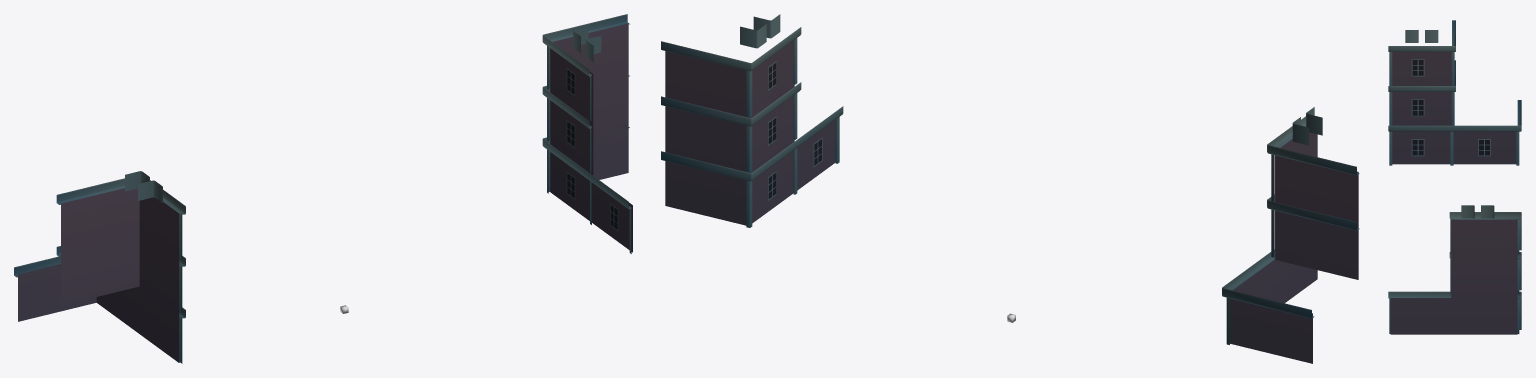
File: FarBackBuilding02.fbx
3 views of the same model, side by side, from view 1: azimuth 30°, elevation 25°; view 2: azimuth 150°, elevation 25°; view 3: azimuth 270°, elevation 25° (orthographic). The views are drawn at different scales.
Parts seen in each view (by area): view 1: FarBackBuilding02; view 2: FarBackBuilding02; view 3: FarBackBuilding02.
Boxes of the visible parts, x1=… form: FarBackBuilding02: x1=14, y1=14, x2=632, y2=363; FarBackBuilding02: x1=661, y1=14, x2=1359, y2=363; FarBackBuilding02: x1=1388, y1=20, x2=1521, y2=334.
Size of the model in its own units: 7634 by 2628 by 1869.
